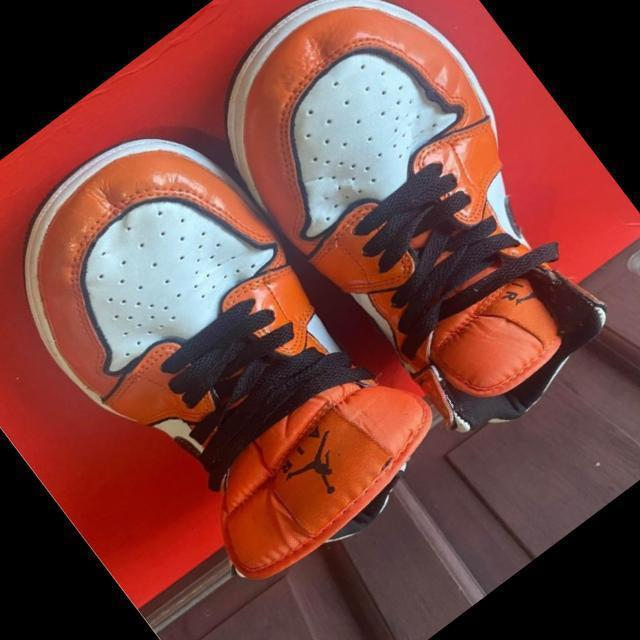nike fake jordan 1: (0, 82, 470, 623), (165, 0, 640, 475)
